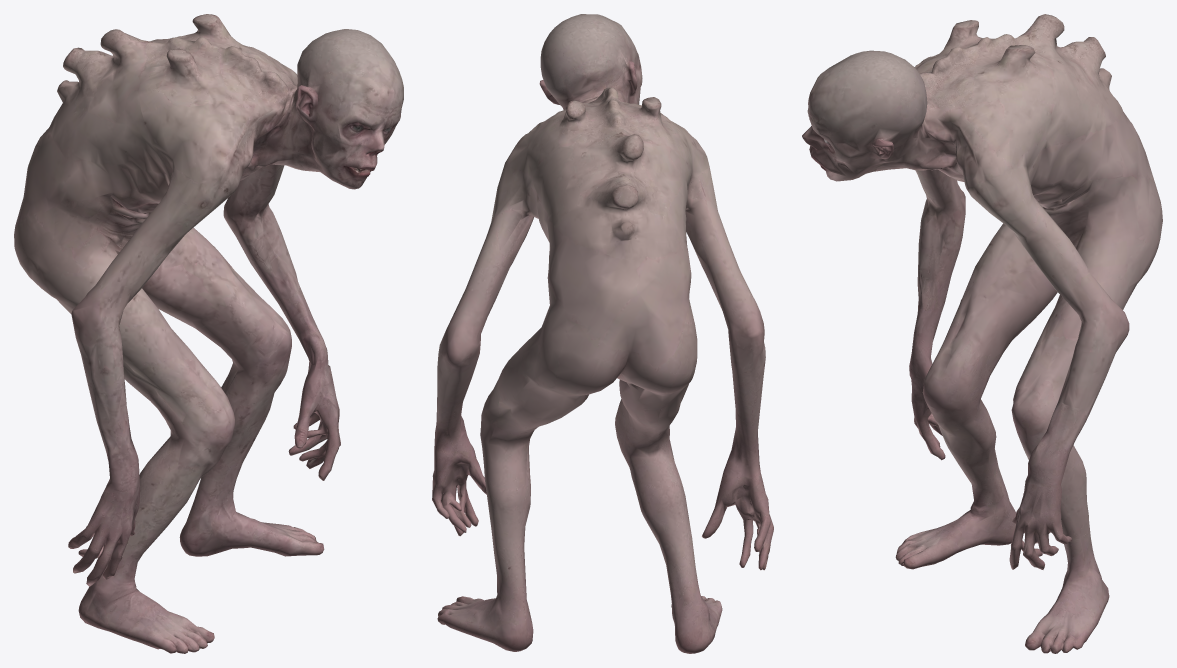
File: watcher.glb
3 views of the same model, side by side, from view 1: azimuth 30°, elevation 25°; view 2: azimuth 150°, elevation 25°; view 3: azimuth 270°, elevation 25° (orthographic). The views are drawn at different scales.
Size of the model in its own units: 1.04 by 1.9 by 1.09.
1 material, 1 textured.
